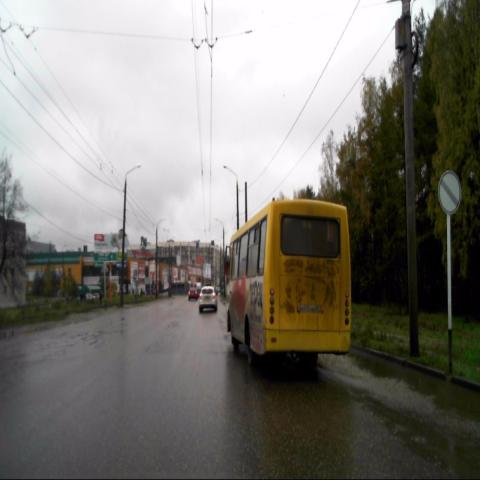3_31: (436, 170, 462, 217)
